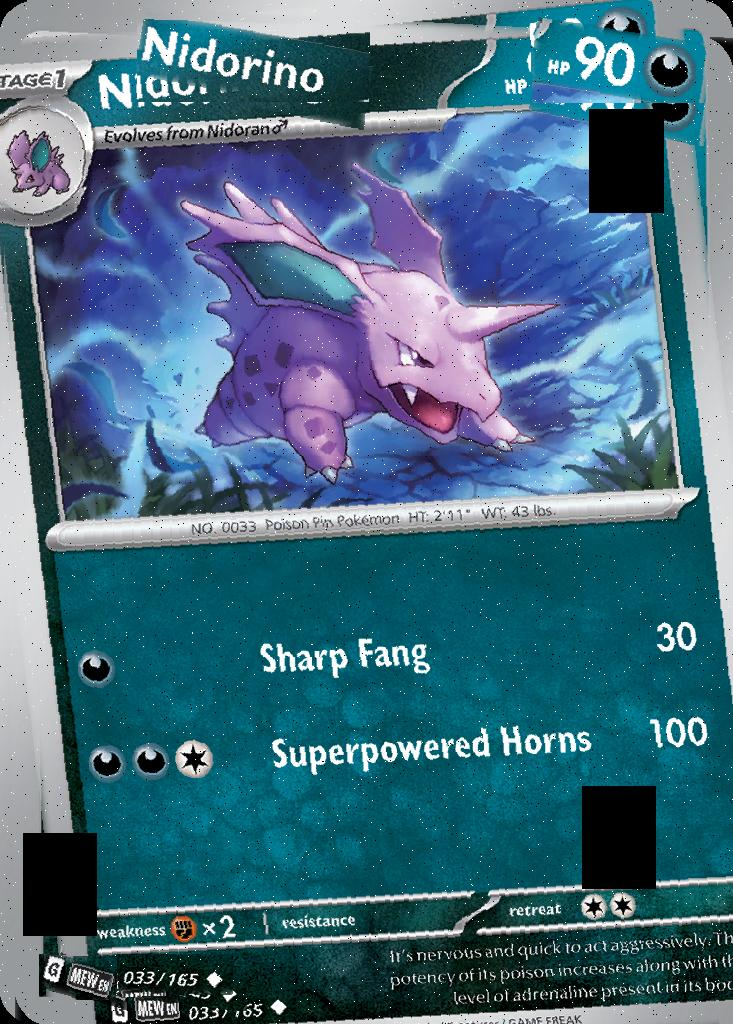card: (0, 0, 733, 1024)
hp: (531, 24, 711, 104)
name: (137, 20, 370, 103)
set num: (117, 955, 233, 998)
set symbol: (40, 954, 119, 1000)
